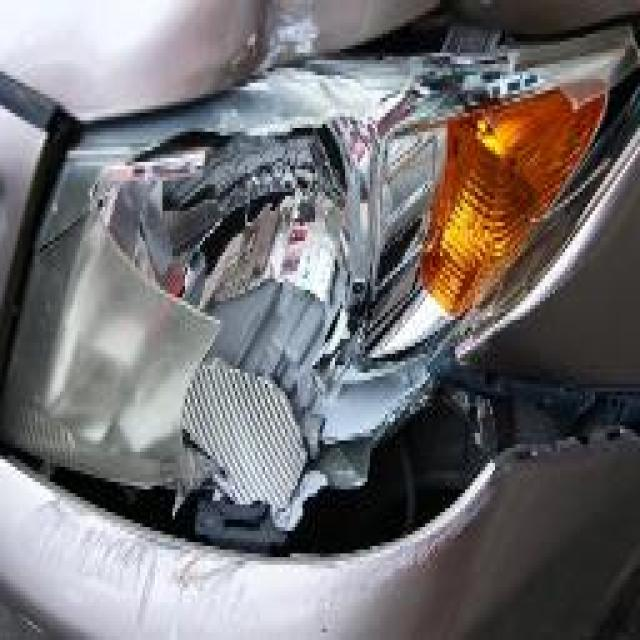Light: (70, 4, 640, 572)
